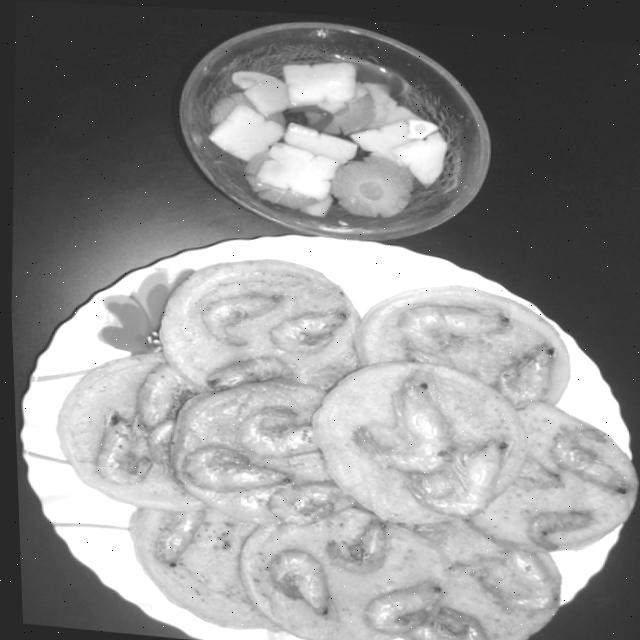炸货点心: (6, 212, 640, 640)
熟制海鲜: (6, 212, 640, 640)
